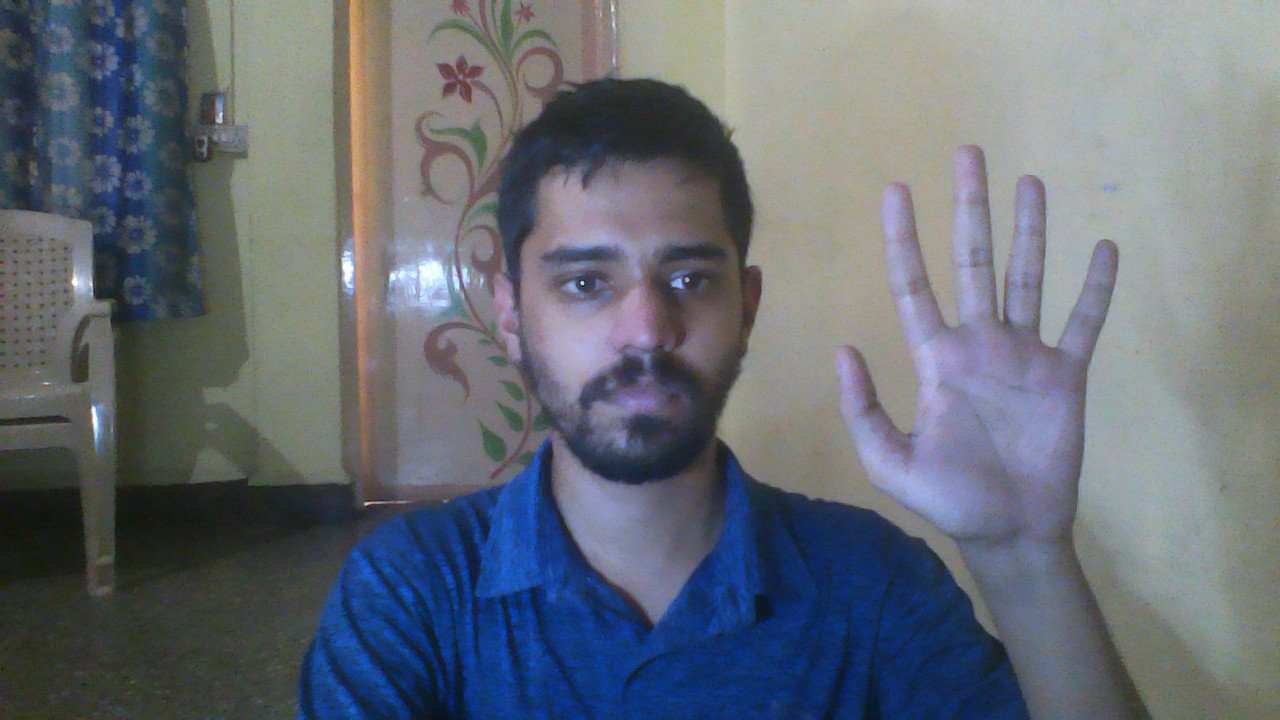hello: (807, 120, 1188, 591)
